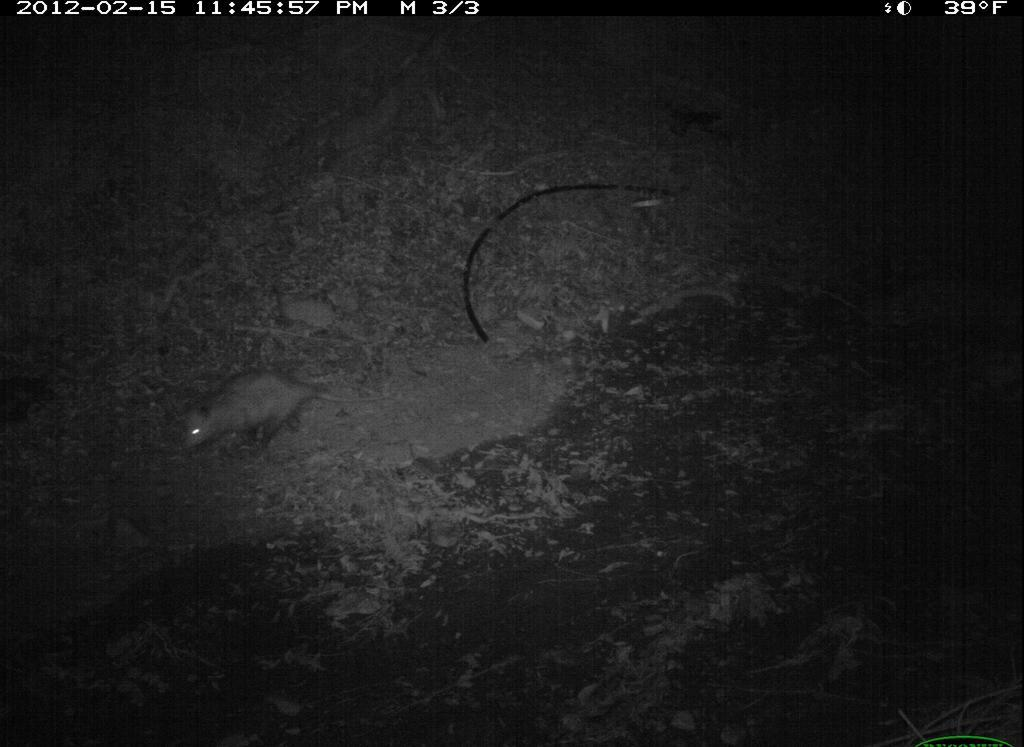opossum: (175, 343, 378, 464)
